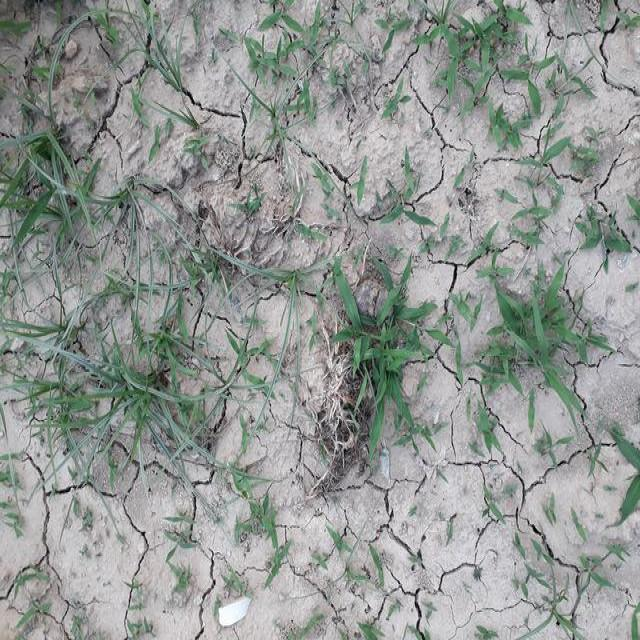weed: (8, 324, 234, 478), (0, 68, 95, 264), (494, 282, 599, 432), (422, 2, 561, 110), (337, 275, 432, 423), (255, 12, 323, 116), (229, 263, 335, 325), (112, 180, 172, 272), (353, 174, 428, 234), (524, 574, 581, 640), (527, 133, 569, 187), (574, 210, 623, 248)
